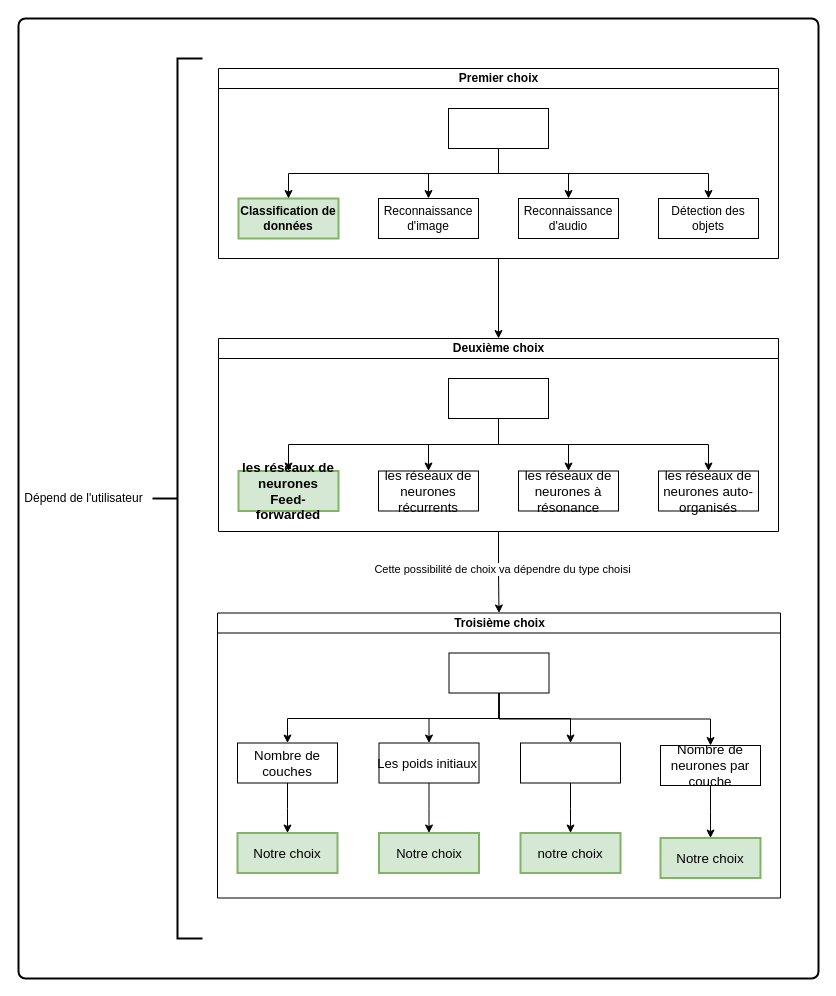
This 836x996 diagram has some shape labels left out. The centre of each missing label's shape, as x and y in pixels:
Choix d'application: the point at 498,128
Choix de caractéristiques: the point at 498,672
Choix de réseau: the point at 498,398
La fonction d'activation: the point at 570,762
